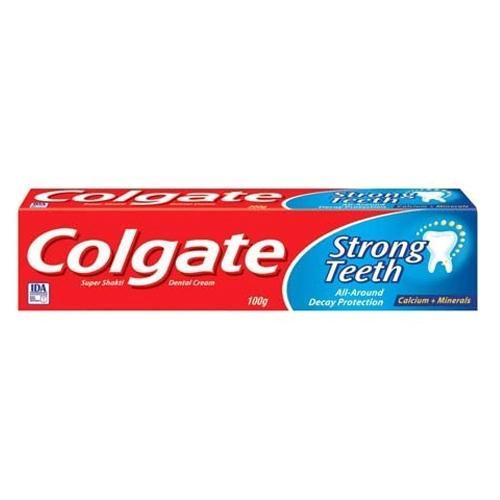toothpaste: (16, 180, 488, 316)
